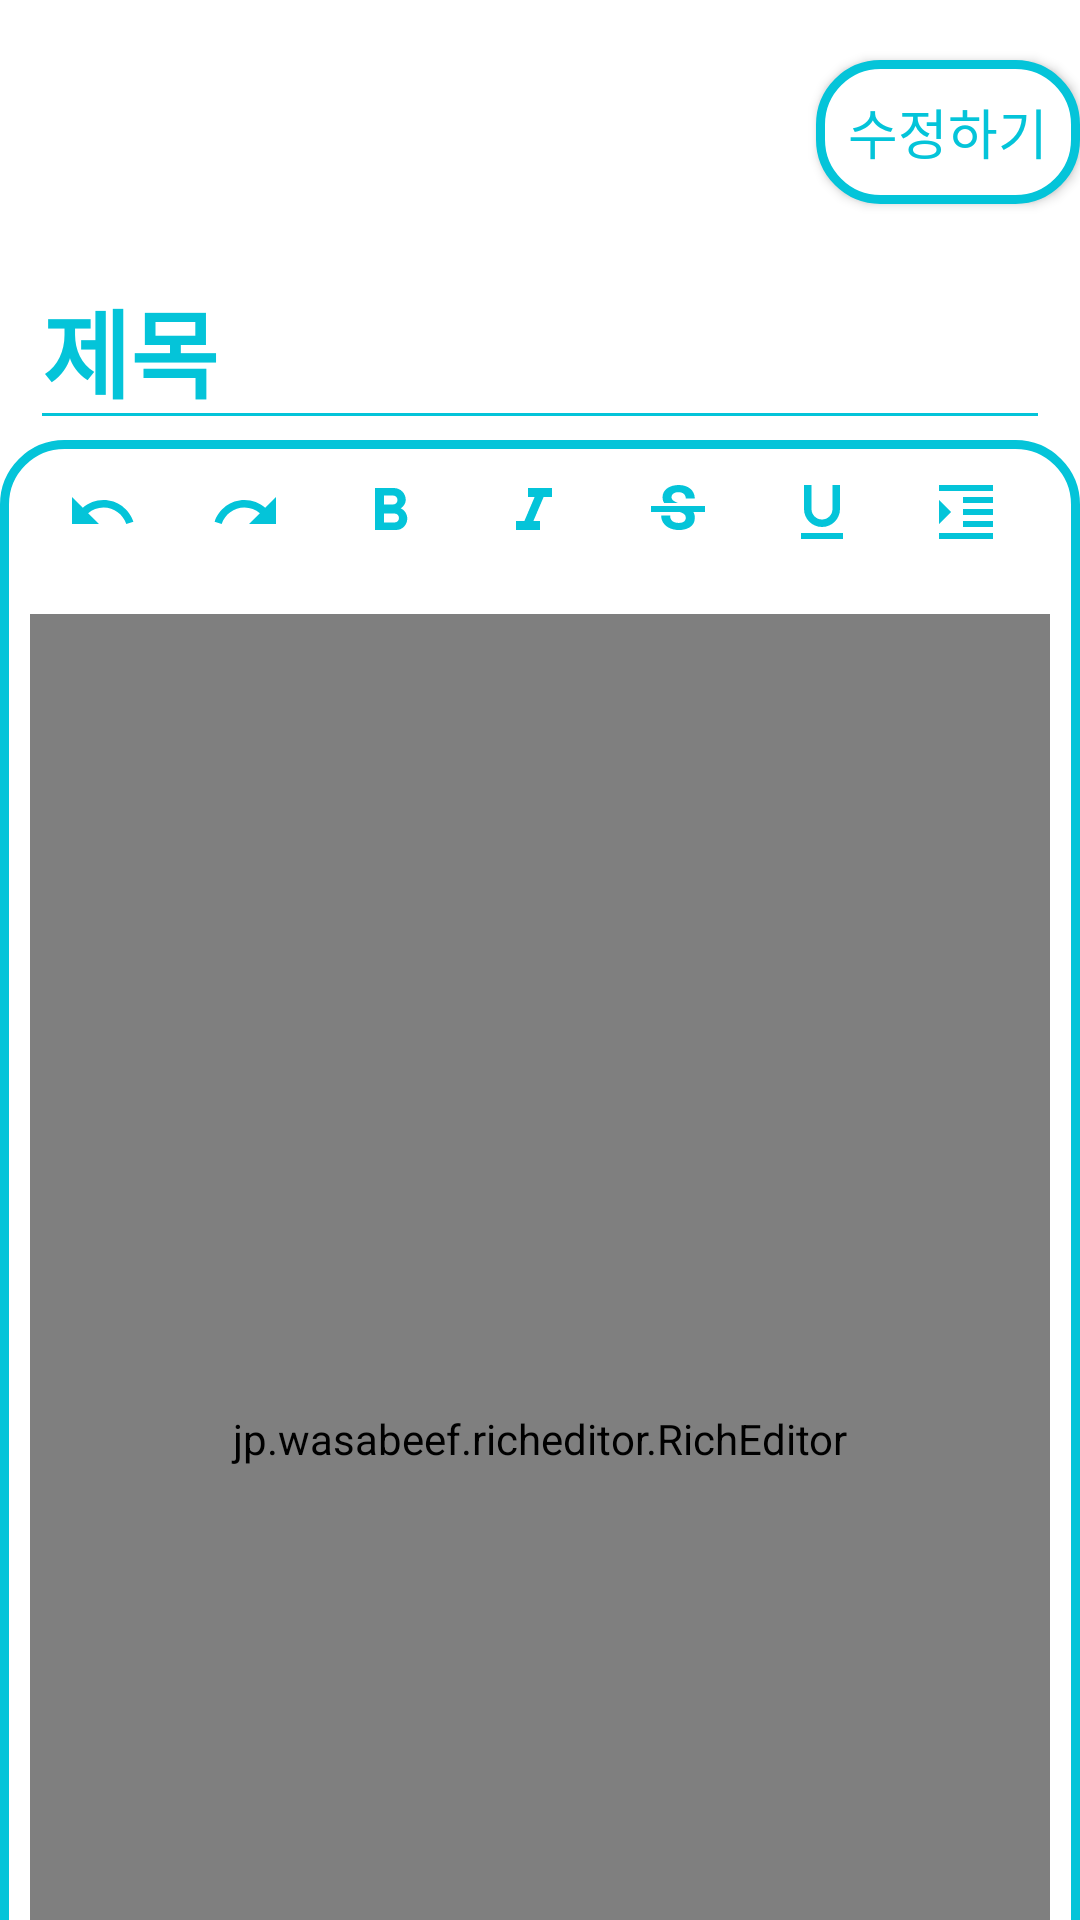

Icons on this 1080×1920 Android screen, each with the point to tap as (x=x, y=y):
format indent increase: (x=966, y=512)
